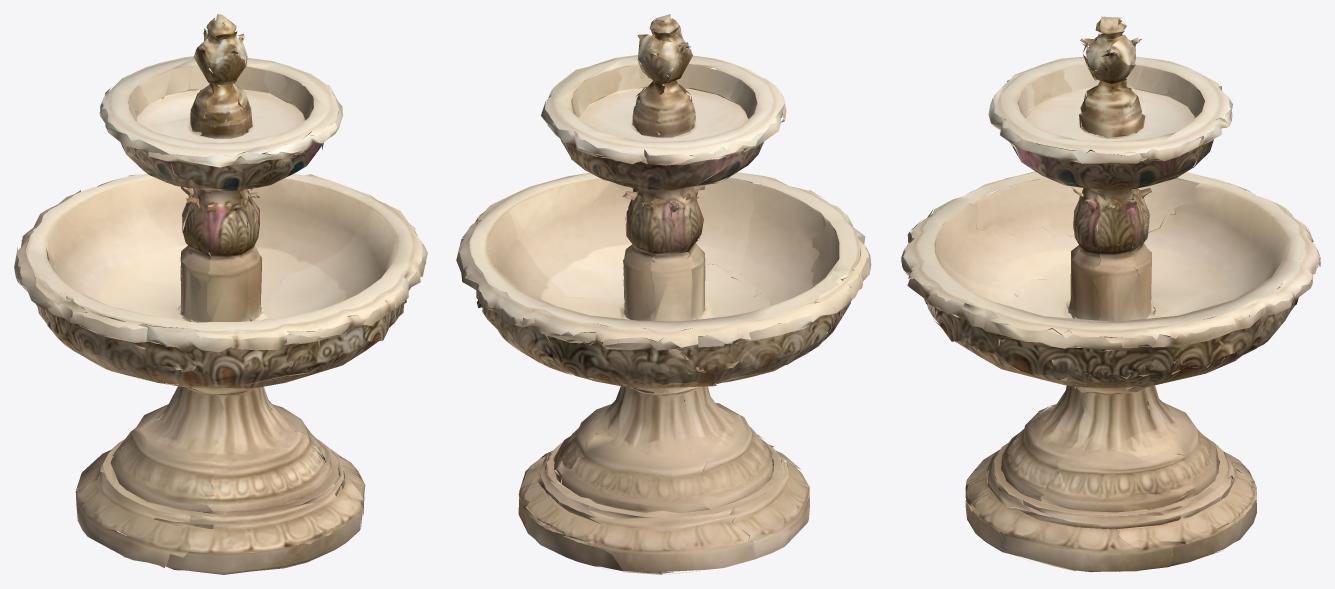
Rendered from unified--detail--fountain.glb.
The picture shows the model from 3 angles, left to right: view 1: azimuth 30°, elevation 25°; view 2: azimuth 150°, elevation 25°; view 3: azimuth 270°, elevation 25°; orthographic projection.
Parts seen in each view (by area): view 1: fountain-0; view 2: fountain-0; view 3: fountain-0.
Boxes of the visible parts, x1=… form: fountain-0: x1=14, y1=14, x2=427, y2=574; fountain-0: x1=456, y1=14, x2=871, y2=574; fountain-0: x1=901, y1=16, x2=1320, y2=572.
Bounding box in the file's own units: 0.6499 × 0.8509 × 0.6534.
Materials: 1 (1 with a texture image).
